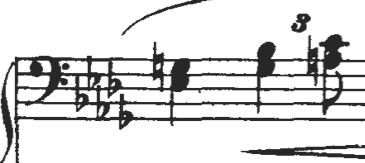bass_clef: (26, 52, 71, 119)
flat: (82, 54, 104, 97), (69, 72, 90, 117), (104, 54, 124, 99), (117, 92, 136, 137), (93, 82, 111, 125)
